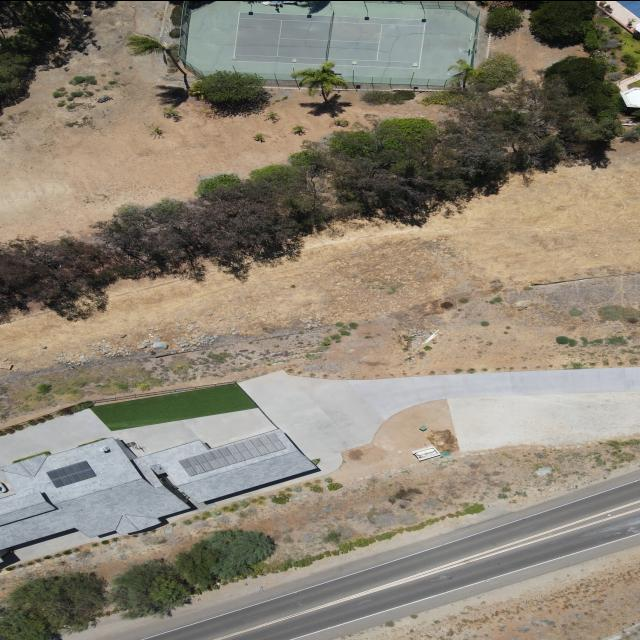solar-panels: (177, 429, 287, 478), (46, 457, 97, 489)
